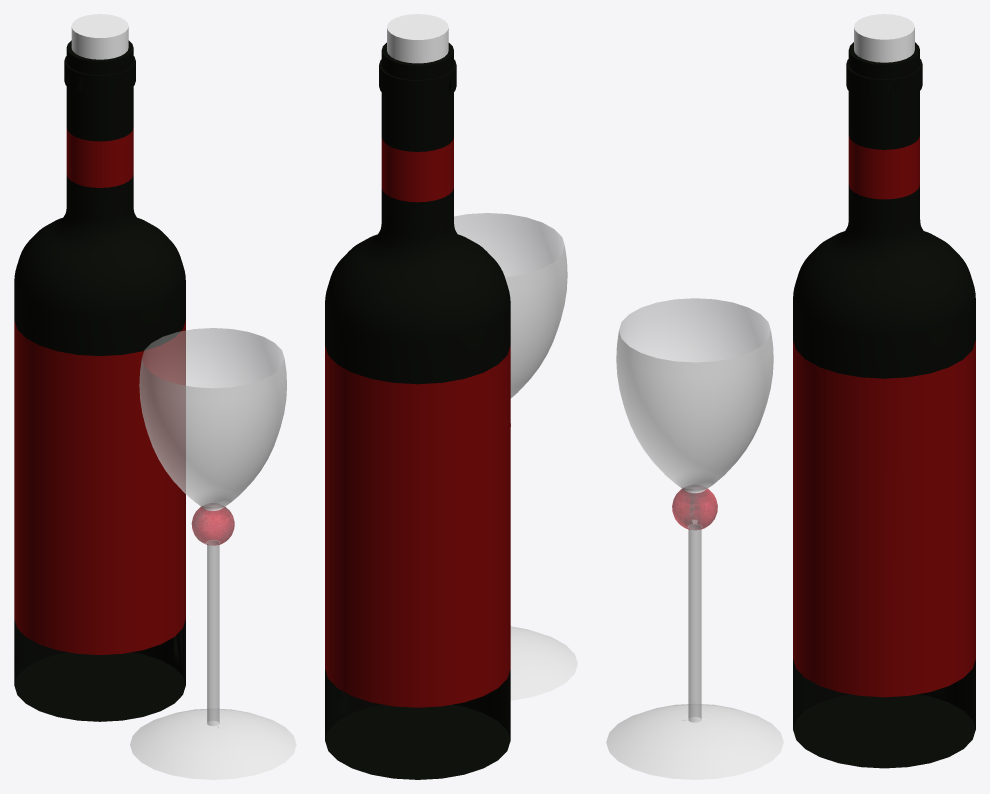
3 renders of one model, left to right at view 1: azimuth 30°, elevation 25°; view 2: azimuth 150°, elevation 25°; view 3: azimuth 270°, elevation 25°, orthographic. The views are drawn at different scales.
Visible parts, largest first — view 1: Mesh3_Model; view 2: Mesh3_Model; view 3: Mesh3_Model.
Boxes of the visible parts, bbox=[...] form: Mesh3_Model: bbox=[14, 14, 296, 779]; Mesh3_Model: bbox=[325, 14, 577, 779]; Mesh3_Model: bbox=[606, 14, 975, 779].
Size of the model in its own units: 0.4502 by 1.66 by 0.7921.
